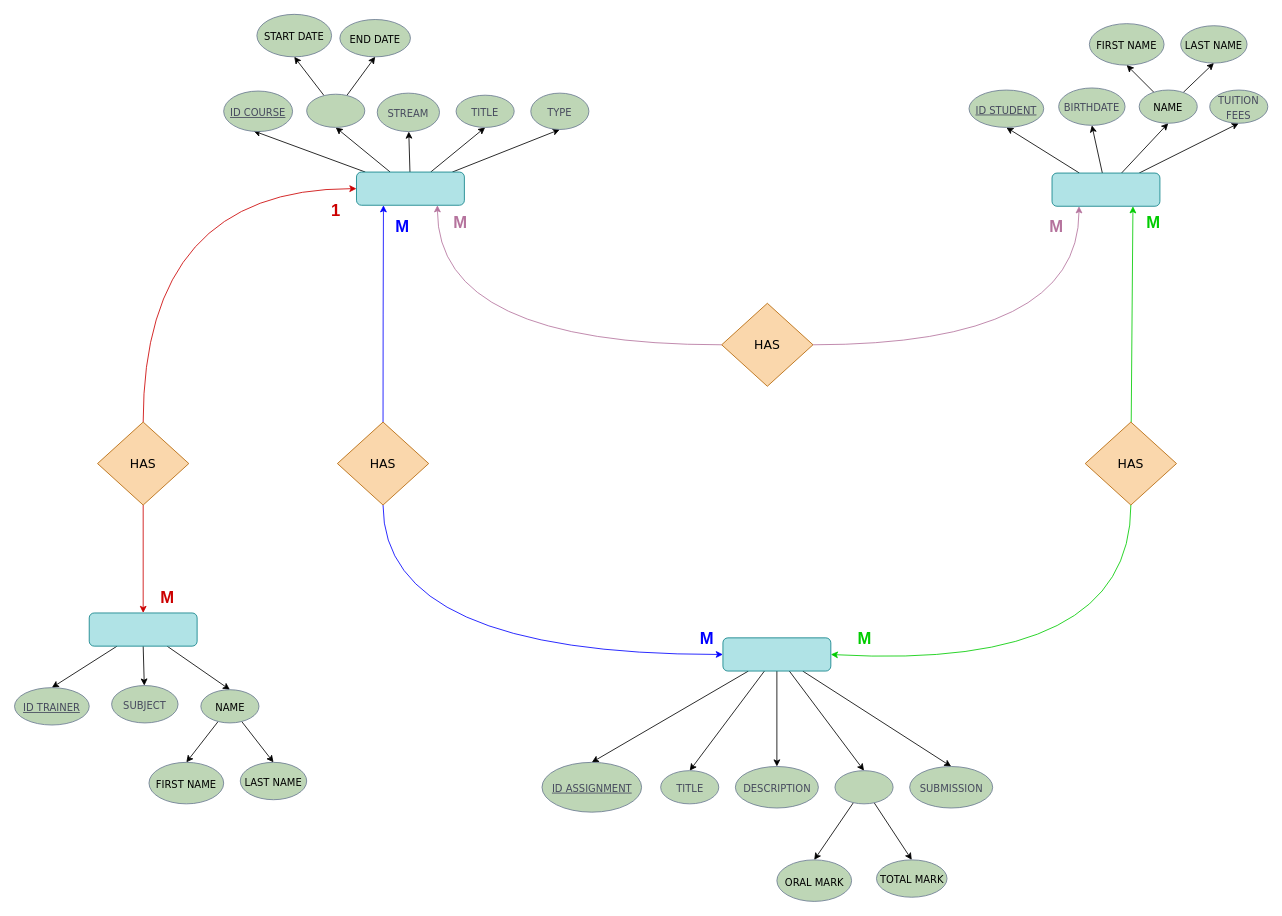
Image size: 1282x916. Some labels were removed from this diagram. The shapes that lost their labels are listed below. From the top down, each one's centre as x and y in pixels, then its label:
(335,110): DATE
(410,188): COURSE
(1105,189): STUDENT
(142,629): TRAINER
(776,654): ASSIGNMENT
(863,787): MARK
